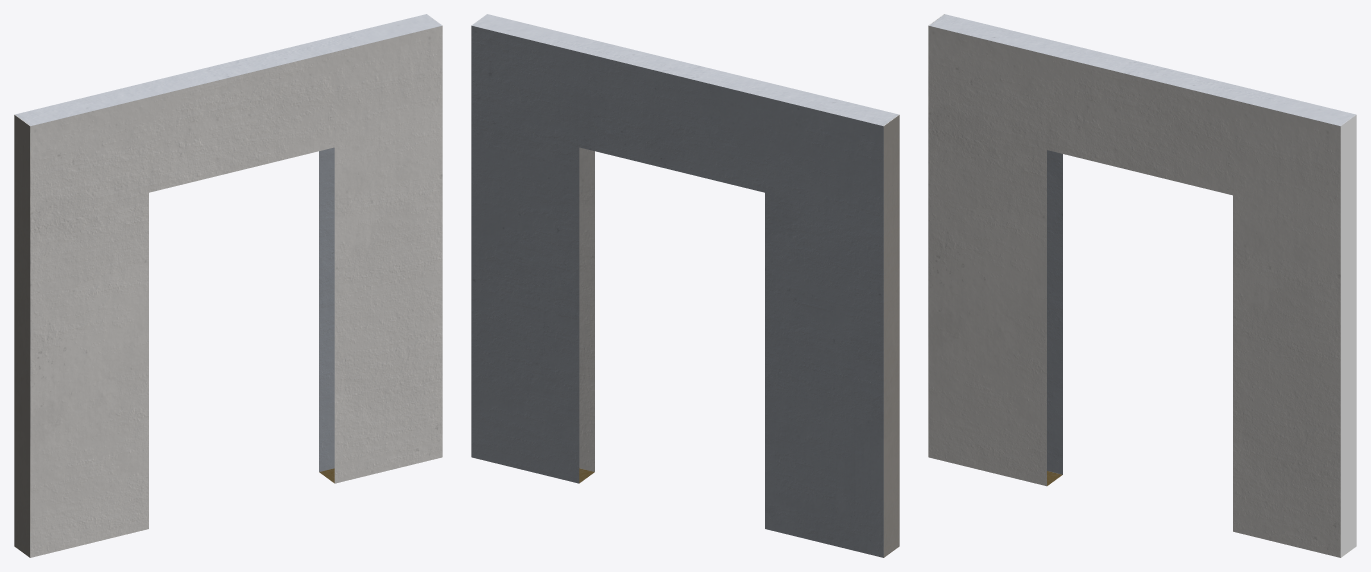
Rendered from wallDoorBlock.fbx.
3 renders of one model, left to right at view 1: azimuth 30°, elevation 25°; view 2: azimuth 150°, elevation 25°; view 3: azimuth 330°, elevation 25°, orthographic.
Visible parts, largest first — view 1: Cube.143; view 2: Cube.143; view 3: Cube.143.
Boxes of the visible parts, bbox=[...] form: Cube.143: bbox=[14, 14, 442, 557]; Cube.143: bbox=[471, 14, 899, 557]; Cube.143: bbox=[928, 14, 1356, 557].
Bounding box in the file's own units: 300 × 300 × 20.
1 material, 1 textured.
